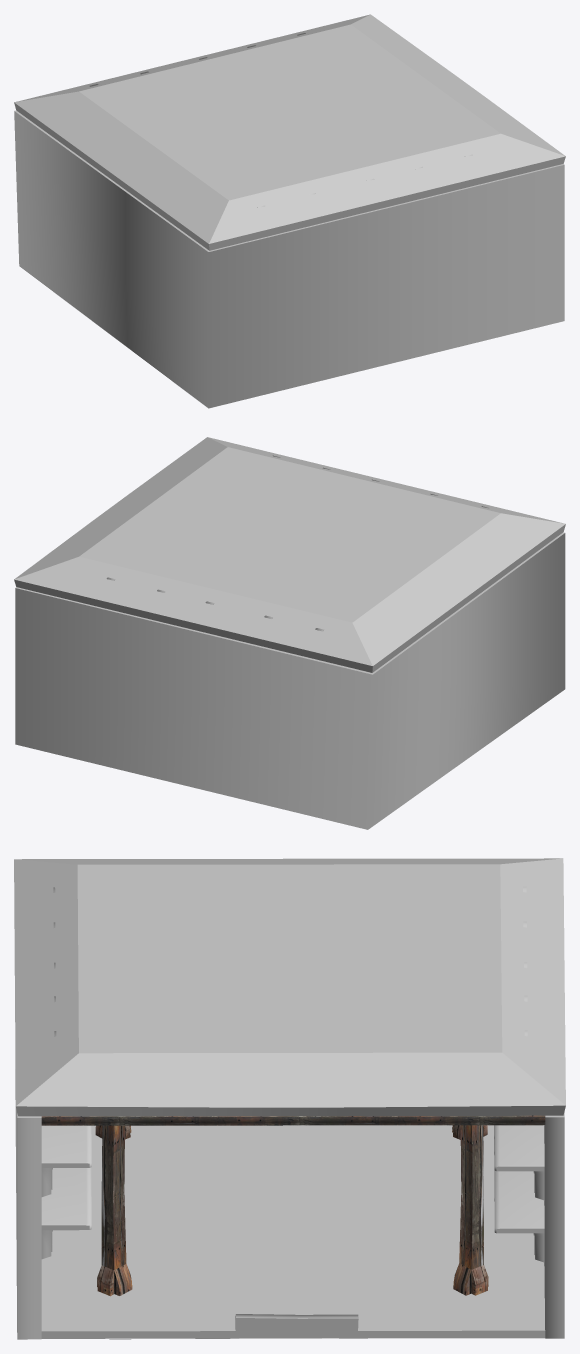
The model's file is DungeonRoomA.fbx.
3 renders of one model, top to bottom at view 1: azimuth 30°, elevation 25°; view 2: azimuth 150°, elevation 25°; view 3: azimuth 270°, elevation 25°, orthographic. The views are drawn at different scales.
Visible parts, largest first — view 1: DungeonRoomA, DungeonRoomAroof; view 2: DungeonRoomA, DungeonRoomAroof; view 3: DungeonRoomAroof, DungeonRoomA, DungeonRoomAShelves, DungeonRoomASupports, DungeonRoomAsTeps.
Boxes of the visible parts, box(x1,y1,x2,y2) form: DungeonRoomA: box(14, 110, 564, 408); DungeonRoomAroof: box(14, 14, 565, 250); DungeonRoomA: box(15, 532, 565, 829); DungeonRoomAroof: box(14, 437, 565, 672); DungeonRoomAroof: box(14, 858, 565, 1125); DungeonRoomA: box(15, 1069, 564, 1339); DungeonRoomAShelves: box(41, 1125, 544, 1262); DungeonRoomASupports: box(95, 1125, 488, 1296); DungeonRoomAsTeps: box(235, 1314, 358, 1338).
Size of the model in its own units: 789 by 381 by 741.
